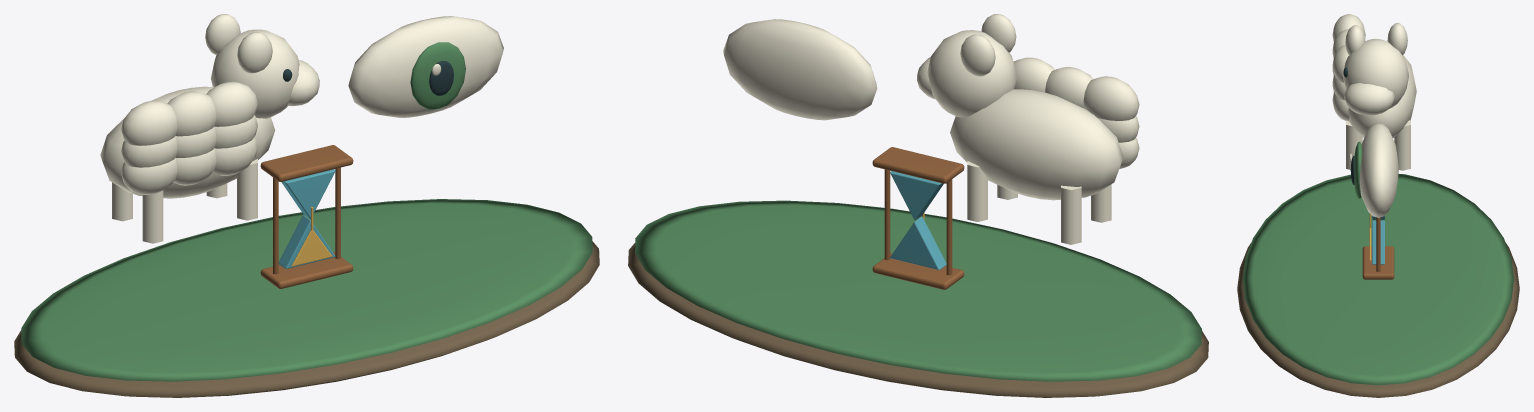
The model's file is complete-first-ongoing-sheep-watch.glb.
The picture shows the model from 3 angles, left to right: view 1: azimuth 30°, elevation 25°; view 2: azimuth 150°, elevation 25°; view 3: azimuth 270°, elevation 25°; orthographic projection. The views are drawn at different scales.
Visible parts, largest first — view 1: complete-first-ongoing-sheep-watch_surface_01, complete-first-ongoing-sheep-watch_surface_02, complete-first-ongoing-sheep-watch_surface_00, complete-first-ongoing-sheep-watch_surface_04, complete-first-ongoing-sheep-watch_surface_05, complete-first-ongoing-sheep-watch_surface_06, complete-first-ongoing-sheep-watch_surface_03; view 2: complete-first-ongoing-sheep-watch_surface_01, complete-first-ongoing-sheep-watch_surface_02, complete-first-ongoing-sheep-watch_surface_00, complete-first-ongoing-sheep-watch_surface_04, complete-first-ongoing-sheep-watch_surface_05; view 3: complete-first-ongoing-sheep-watch_surface_01, complete-first-ongoing-sheep-watch_surface_02, complete-first-ongoing-sheep-watch_surface_00, complete-first-ongoing-sheep-watch_surface_04, complete-first-ongoing-sheep-watch_surface_05.
Boxes of the visible parts, x1,y1,x2,y2 form: complete-first-ongoing-sheep-watch_surface_01: (21,42,592,381); complete-first-ongoing-sheep-watch_surface_02: (100,14,503,243); complete-first-ongoing-sheep-watch_surface_00: (14,241,599,397); complete-first-ongoing-sheep-watch_surface_04: (260,145,353,288); complete-first-ongoing-sheep-watch_surface_05: (278,169,335,268); complete-first-ongoing-sheep-watch_surface_06: (291,207,332,266); complete-first-ongoing-sheep-watch_surface_03: (283,61,453,95); complete-first-ongoing-sheep-watch_surface_01: (635,200,1201,381); complete-first-ongoing-sheep-watch_surface_02: (723,14,1139,244); complete-first-ongoing-sheep-watch_surface_00: (628,243,1208,397); complete-first-ongoing-sheep-watch_surface_04: (872,147,964,289); complete-first-ongoing-sheep-watch_surface_05: (890,171,946,269); complete-first-ongoing-sheep-watch_surface_01: (1243,141,1513,385); complete-first-ongoing-sheep-watch_surface_02: (1332,14,1416,217); complete-first-ongoing-sheep-watch_surface_00: (1237,243,1519,397); complete-first-ongoing-sheep-watch_surface_04: (1362,217,1394,279); complete-first-ongoing-sheep-watch_surface_05: (1372,216,1384,264).
Bounding box in the file's own units: 4.56 × 2.44 × 2.5.
